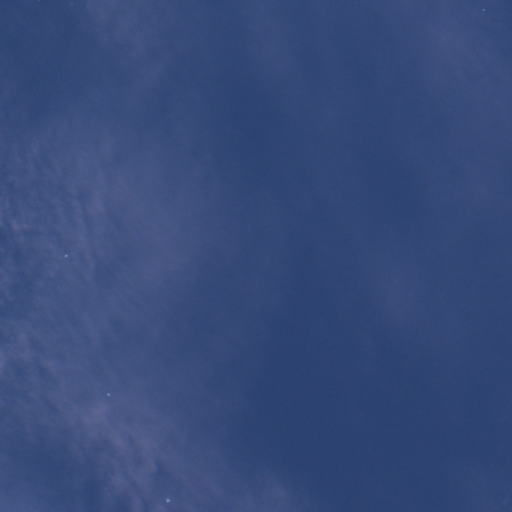Iceberg: (107, 393, 109, 395), (167, 499, 169, 501), (482, 9, 484, 10), (65, 255, 67, 256)
